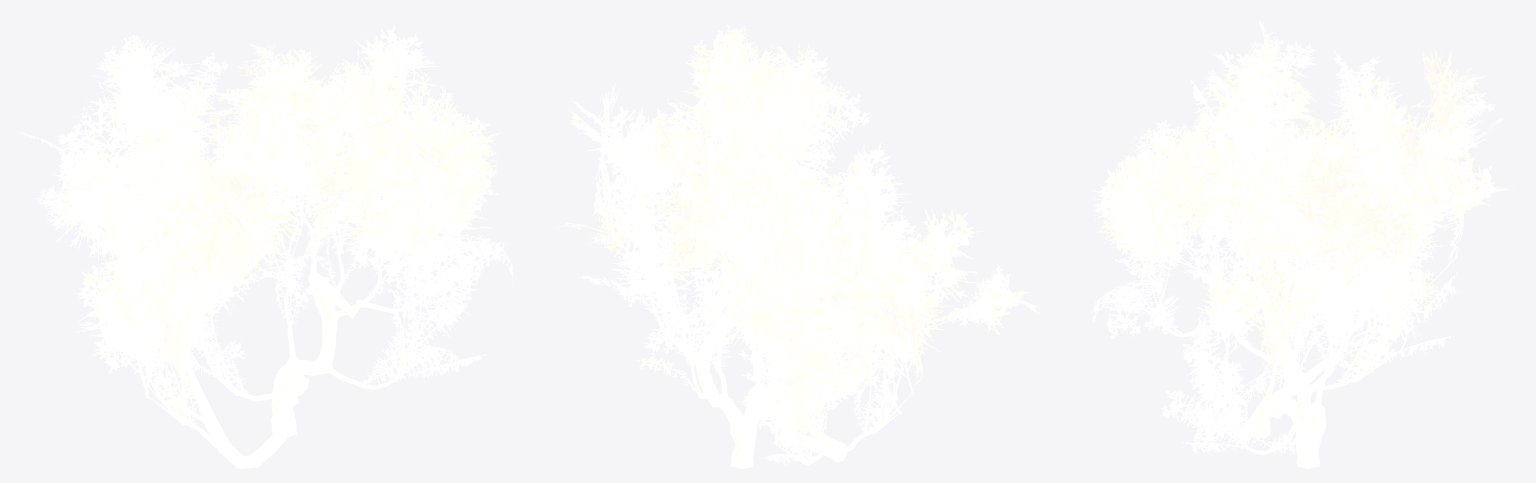
3 views of the same model, side by side, from view 1: azimuth 30°, elevation 25°; view 2: azimuth 150°, elevation 25°; view 3: azimuth 270°, elevation 25° (orthographic). The views are drawn at different scales.
Parts seen in each view (by area): view 1: SM_Gorse_02_LOD0; view 2: SM_Gorse_02_LOD0; view 3: SM_Gorse_02_LOD0.
Part boxes in pixels (x1,y1,x2,y2): SM_Gorse_02_LOD0: (19, 26, 512, 468); SM_Gorse_02_LOD0: (557, 24, 1043, 468); SM_Gorse_02_LOD0: (1091, 20, 1513, 468).
Size of the model in its own units: 2.57 by 2.27 by 2.1.
Materials: 1 (1 with a texture image).
